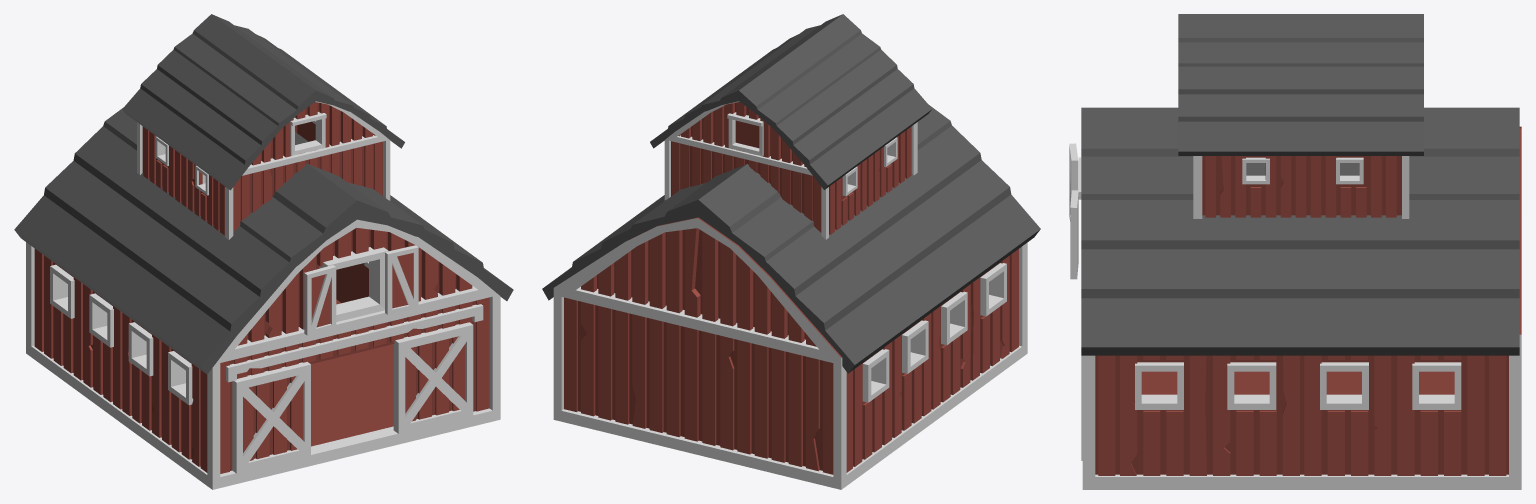
File: BigBarn.glb
3 views of the same model, side by side, from view 1: azimuth 30°, elevation 25°; view 2: azimuth 150°, elevation 25°; view 3: azimuth 270°, elevation 25° (orthographic). The views are drawn at different scales.
Visible parts, largest first — view 1: BigBarn, BigBarn_Door, BigBarn_Door2, BigBarn_Window, BigBarn_Window2; view 2: BigBarn; view 3: BigBarn, BigBarn_Window, BigBarn_Window2.
Part boxes in pixels (<box>): BigBarn: <box>14,14,513,489</box>; BigBarn_Door: <box>393,322,473,433</box>; BigBarn_Door2: <box>232,362,310,473</box>; BigBarn_Window: <box>385,245,418,314</box>; BigBarn_Window2: <box>304,265,336,335</box>; BigBarn: <box>542,14,1040,489</box>; BigBarn: <box>1078,14,1521,489</box>; BigBarn_Window: <box>1070,190,1078,279</box>; BigBarn_Window2: <box>1069,143,1078,221</box>.
Size of the model in its own units: 7.73 by 7.89 by 8.22.
